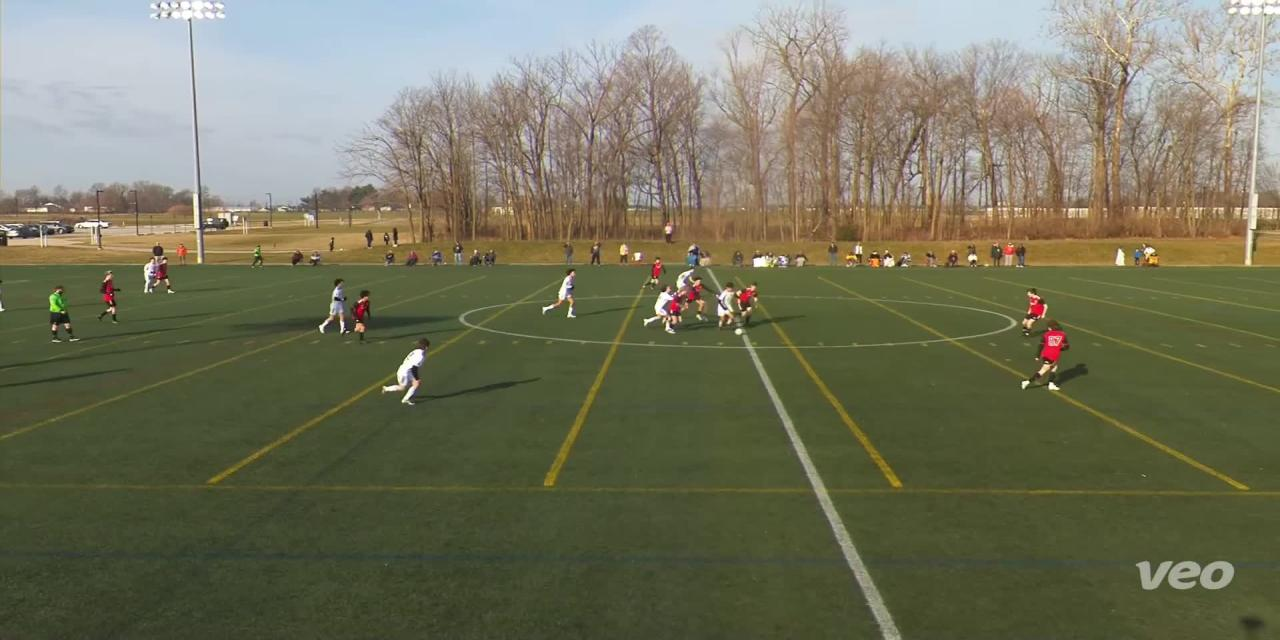sports ball: (729, 324, 748, 342)
